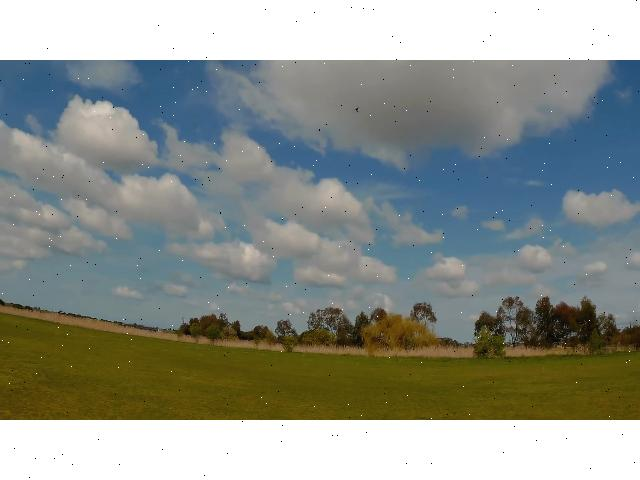Anti-Drone: (346, 92, 368, 126)
